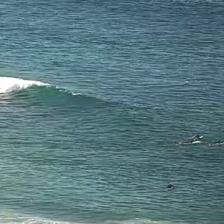surfer: (193, 134, 203, 140), (166, 184, 174, 190), (214, 140, 222, 145), (184, 140, 194, 144)
